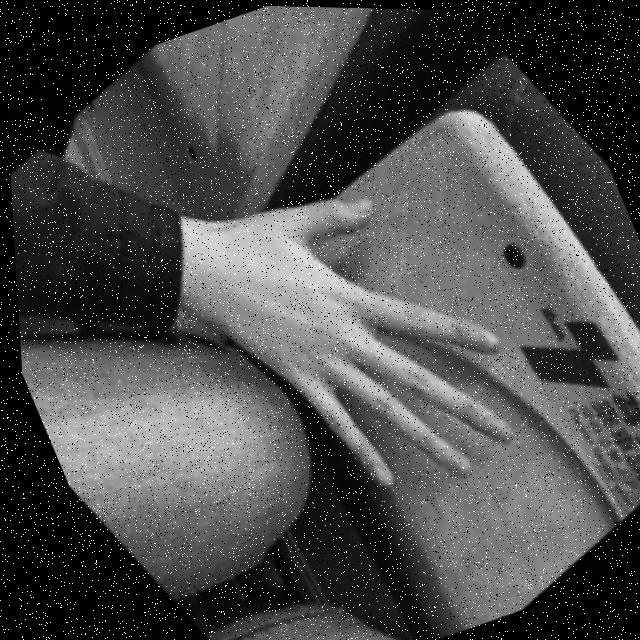no-gloves: (158, 144, 547, 543)
